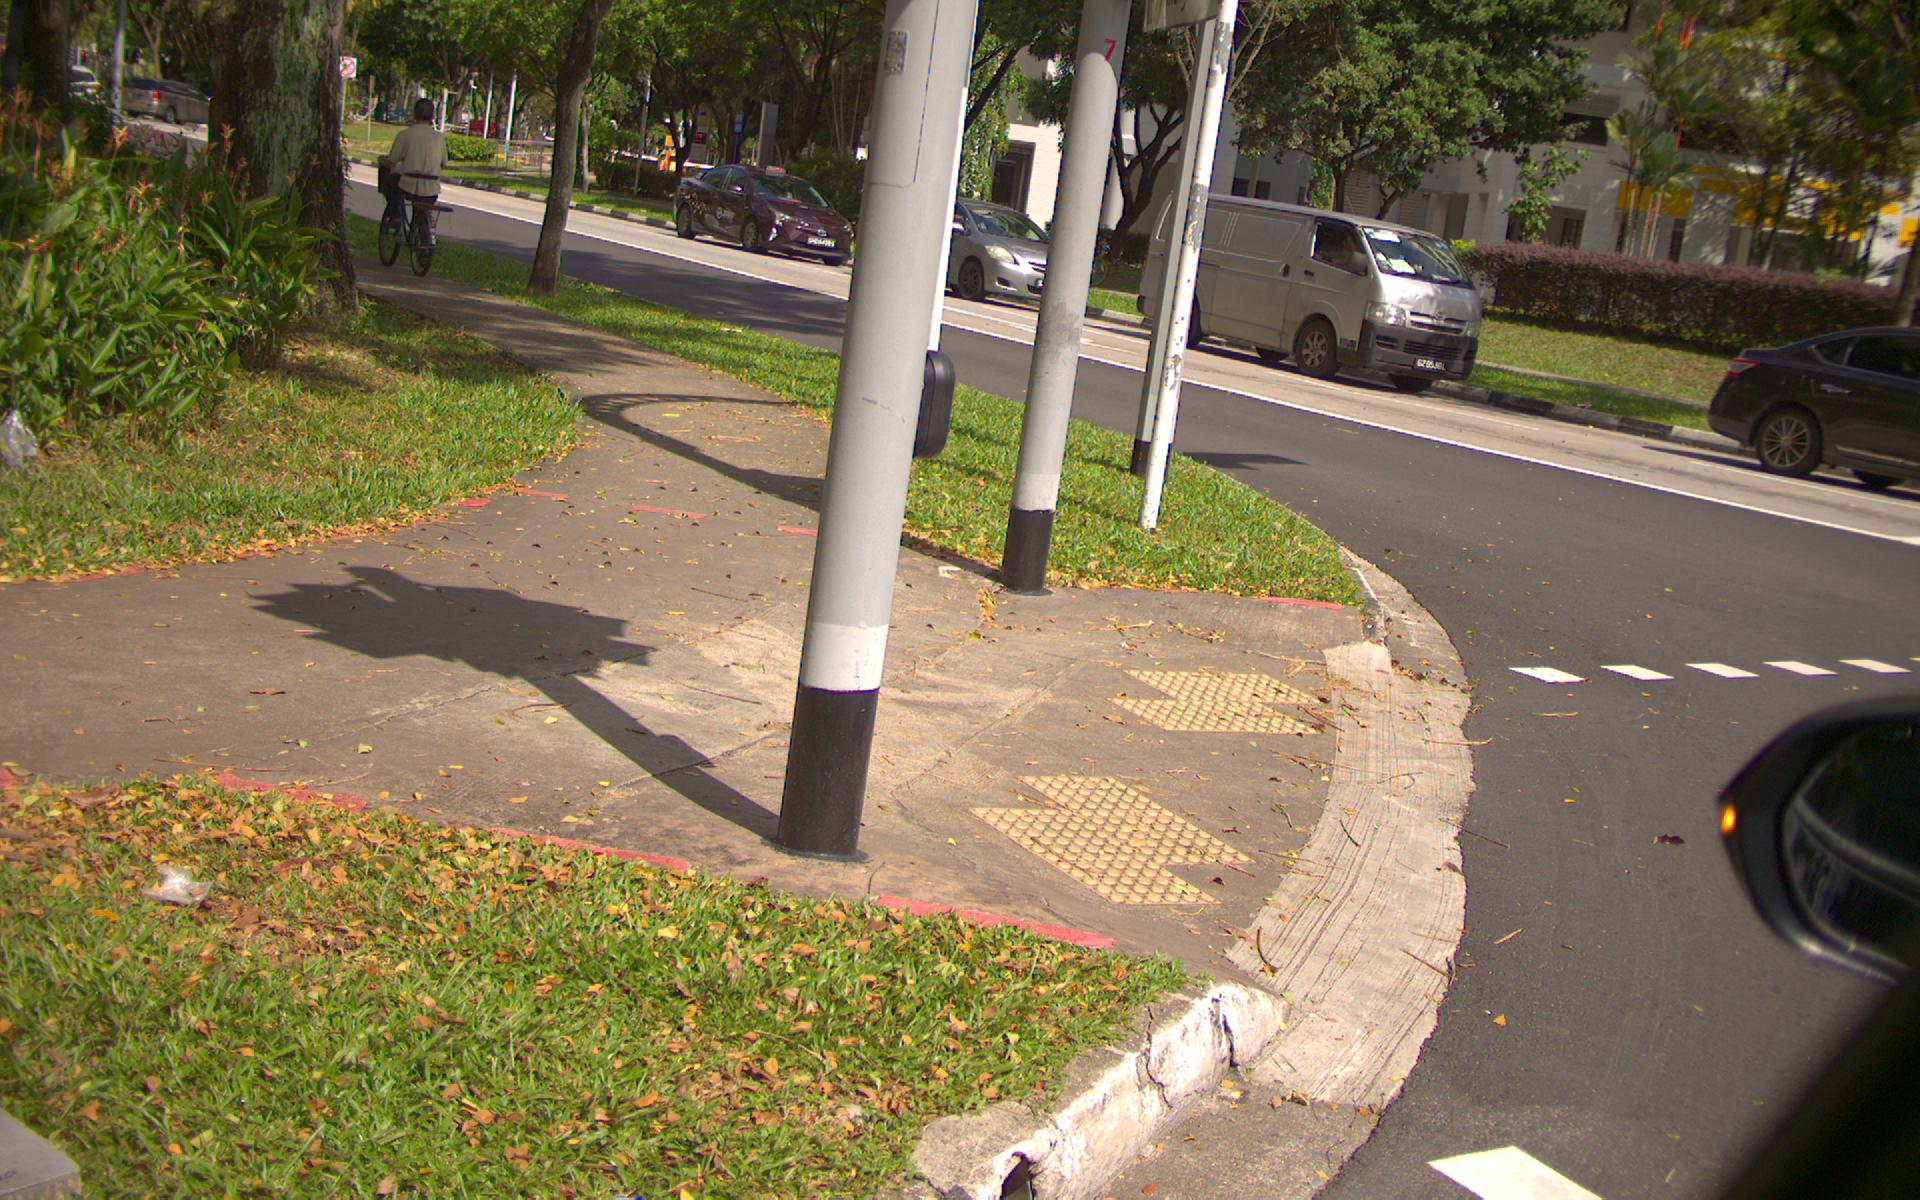pathway_low: (376, 575, 1281, 854)
road_turf_low: (19, 834, 582, 1190)
